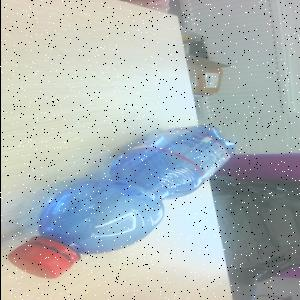Plastic-bottle: (8, 126, 237, 281)
